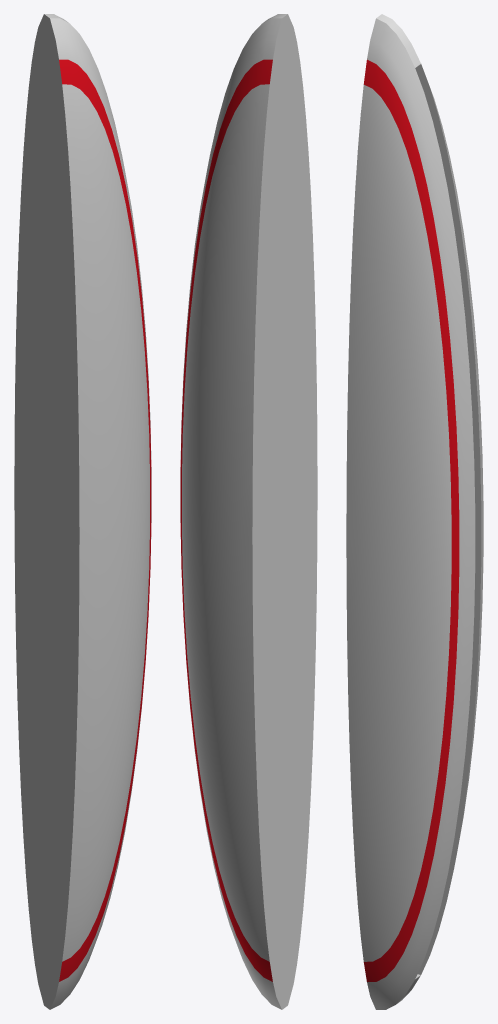
Rendered from laser_barrier.fbx.
The picture shows the model from 3 angles, left to right: view 1: azimuth 30°, elevation 25°; view 2: azimuth 150°, elevation 25°; view 3: azimuth 330°, elevation 25°; orthographic projection.
Parts seen in each view (by area): view 1: Sphere; view 2: Sphere; view 3: Sphere.
Part boxes in pixels (x1=…): Sphere: x1=14, y1=14, x2=151, y2=1009; Sphere: x1=180, y1=14, x2=317, y2=1009; Sphere: x1=346, y1=14, x2=483, y2=1009.
Bounding box in the file's own units: 31.46 × 300 × 35.7.
